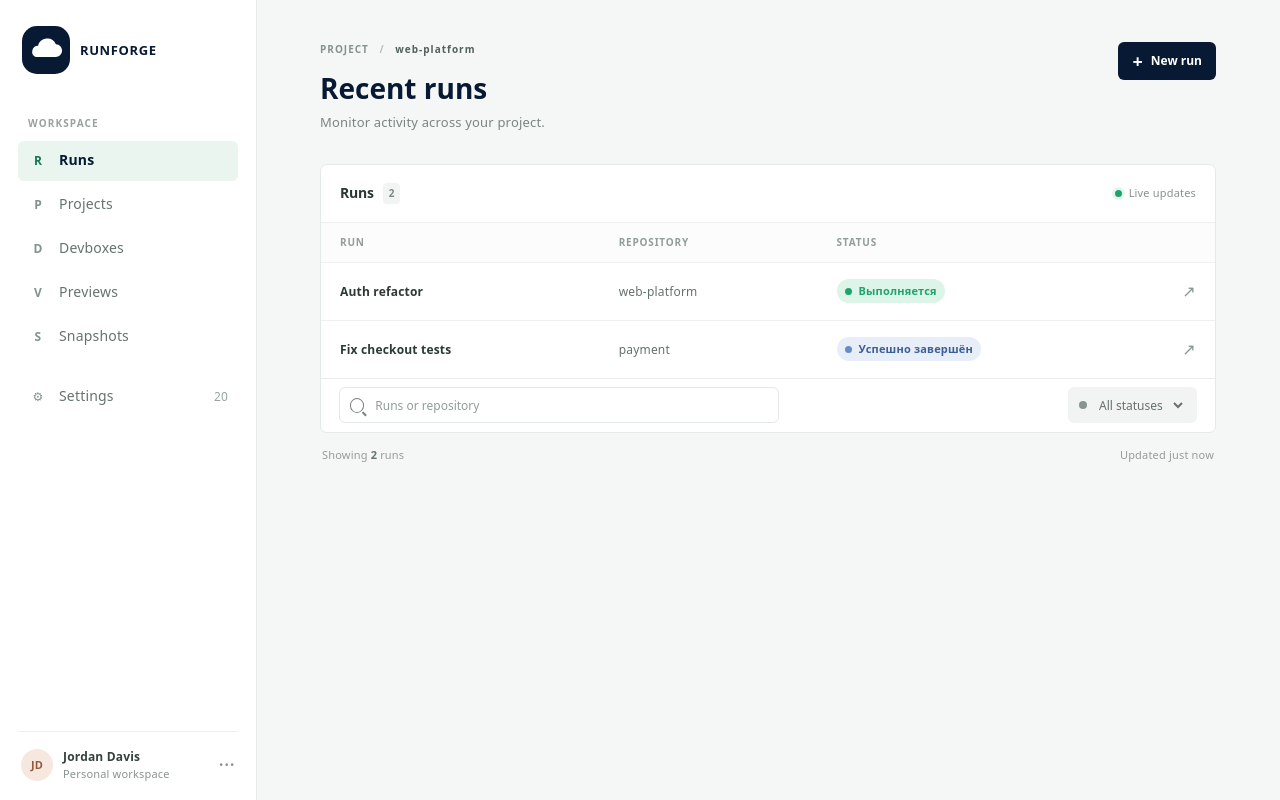
it: App runs › фильтрует запуск по статусу
The width and height of the screenshot is (1280, 800).
Expected: the text "Auth refactor" is shown, 321,262 -> 600,320
Select "Running" in the dropdown named "Фильтр по статусу": x=1140, y=405 1095,396 -> 1186,415
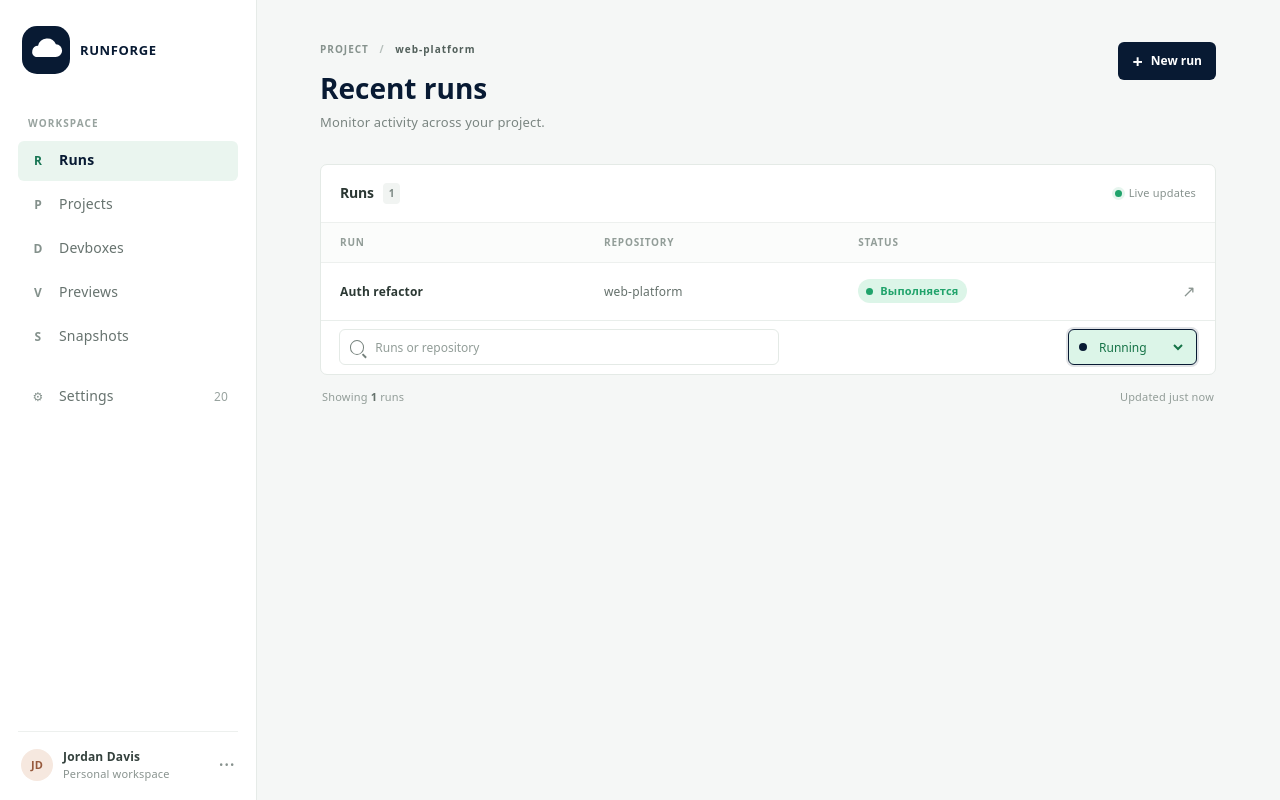
Expected: the text "Auth refactor" is shown, 321,262 -> 585,320
Expected: the text "Fix checkout tests" is gone
